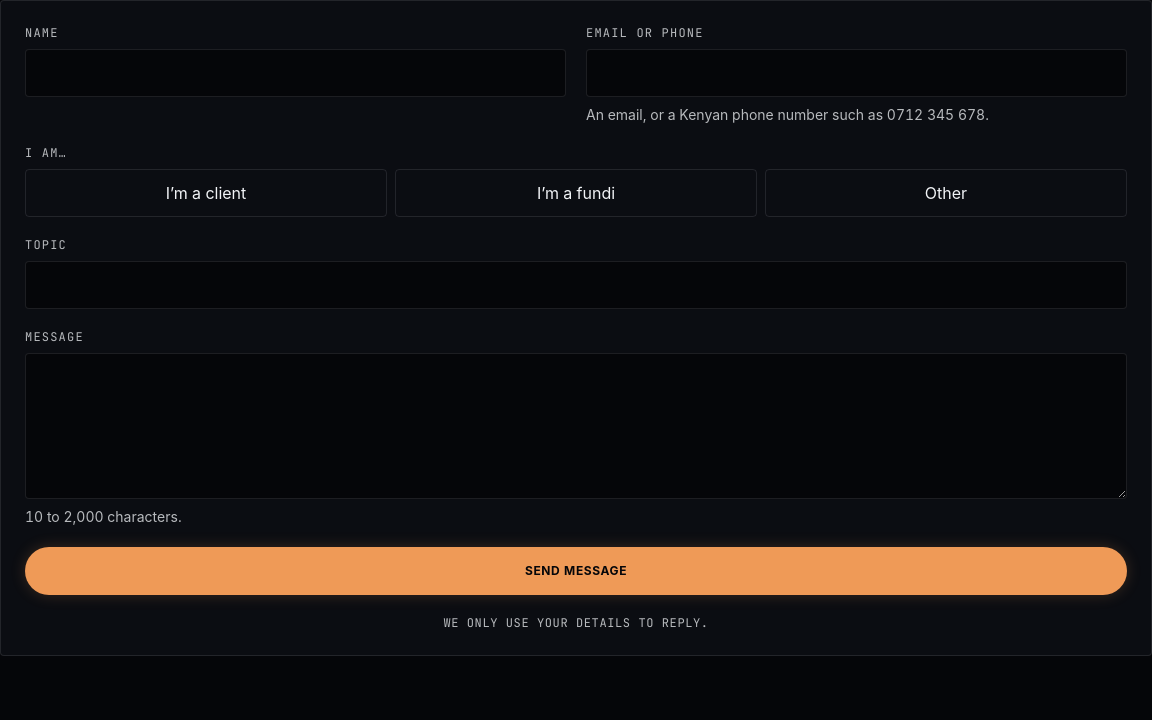
Test case: contact form (Convex) › rejects a contact that is neither an email nor a Kenyan phone
Click the radio button labelled "I’m a fundi".
click(576, 193)  # box [395,169,757,217]
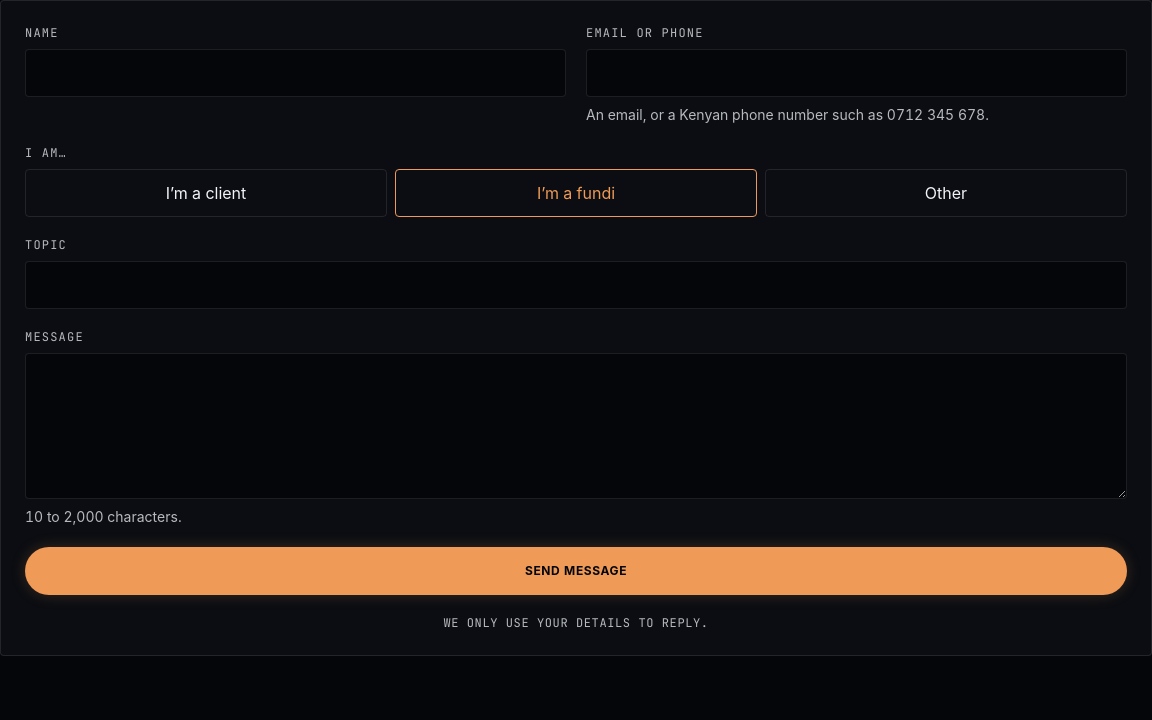
Type "  Wanjiru Kamau " into the field labelled "Name".
click(296, 73); type("  Wanjiru Kamau ")  # box [25,49,566,97]
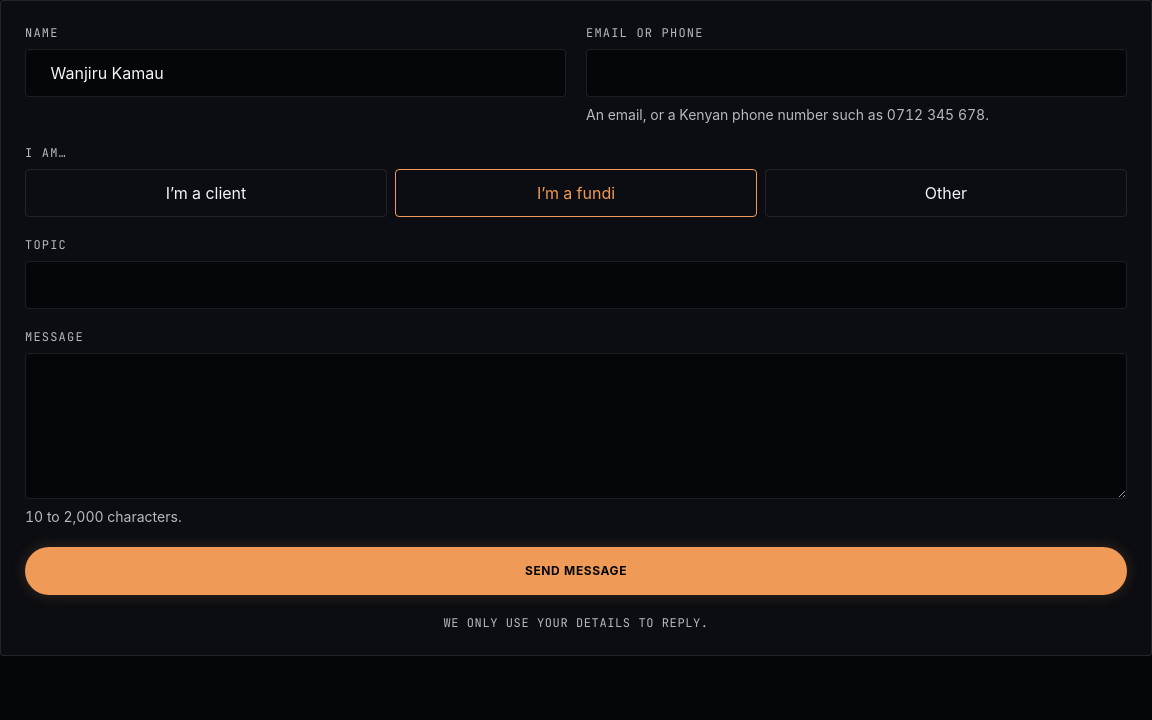
Type "0712 345 678" into the field labelled "Email or phone".
click(856, 73); type("0712 345 678")  # box [586,49,1127,97]
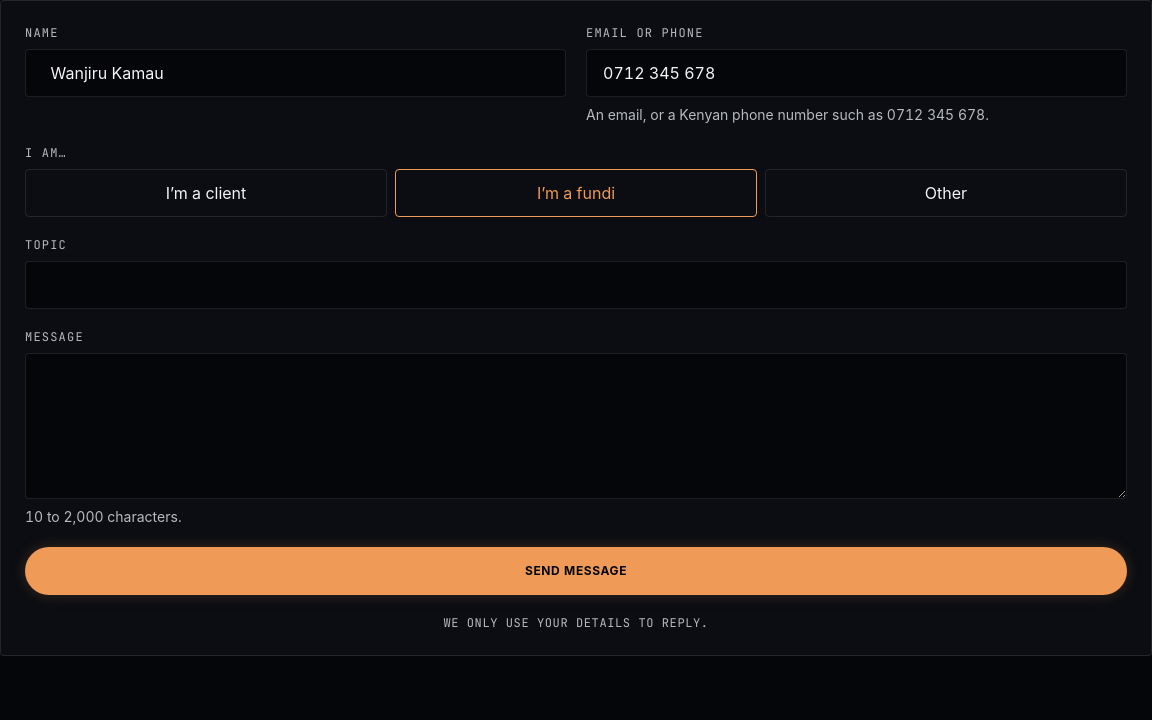
Type "My badge" into the field labelled "Topic".
click(576, 285); type("My badge")  # box [25,261,1127,309]
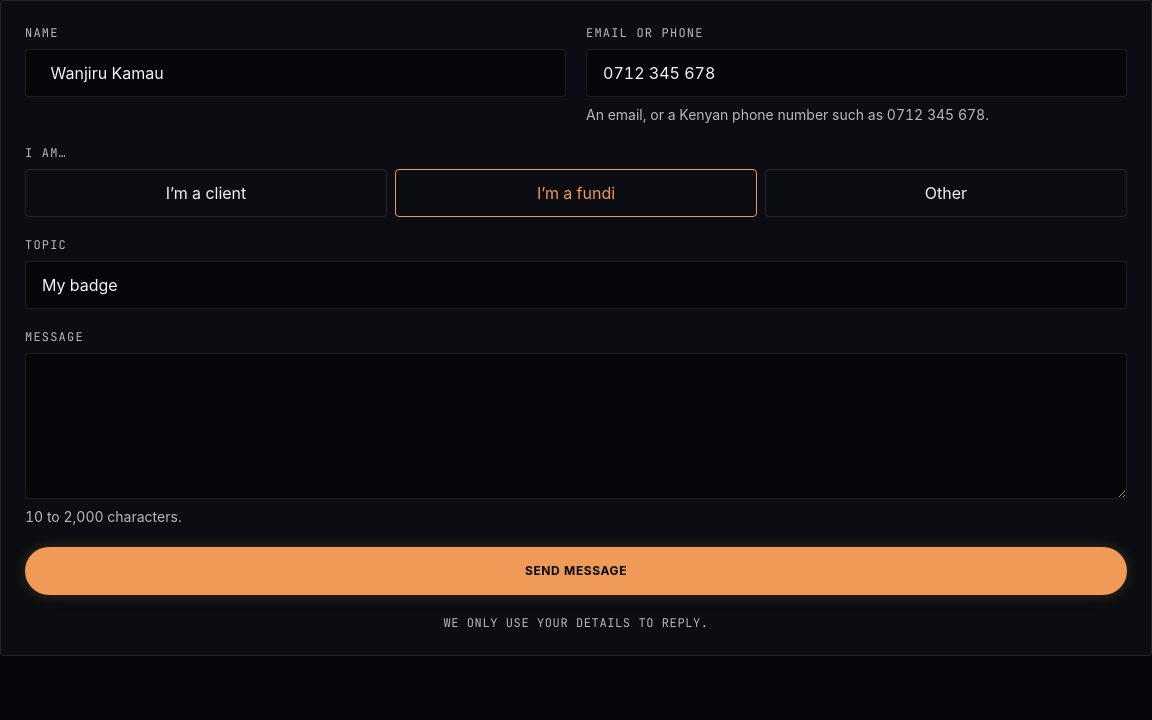
Type "How long does a review take after I upload?" into the text box labelled "Message".
click(576, 426); type("How long does a review take after I upload?")  # box [25,353,1127,499]
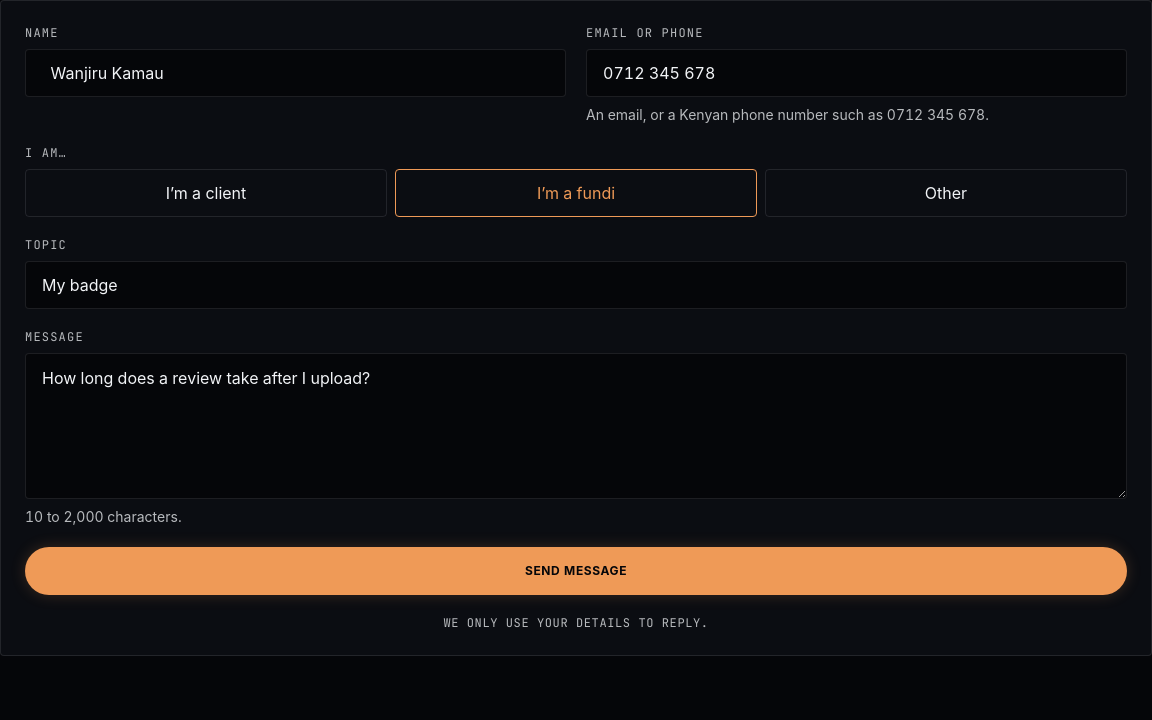
Replace the text in the field labelled "Email or phone" with "+447700900123" at (856, 73), box [586,49,1127,97]
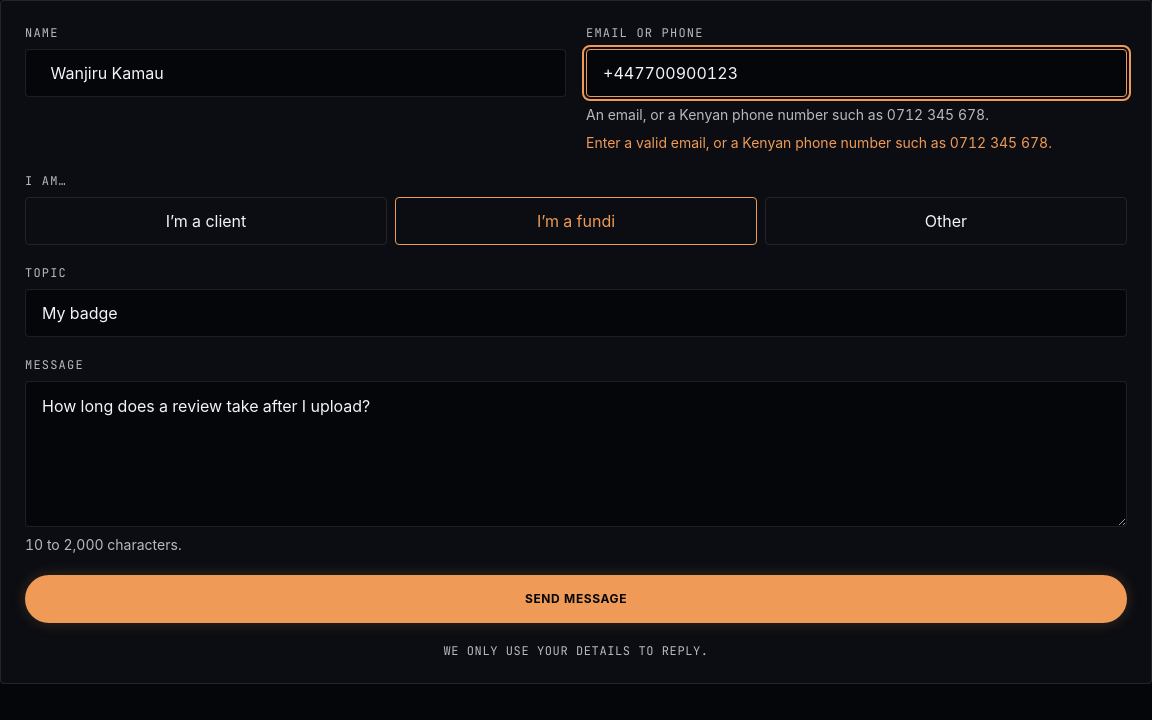
Expected: the text "Enter a valid email, or a Kenyan phone number such as 0712 345 678." is shown, [586,133,1127,153]
